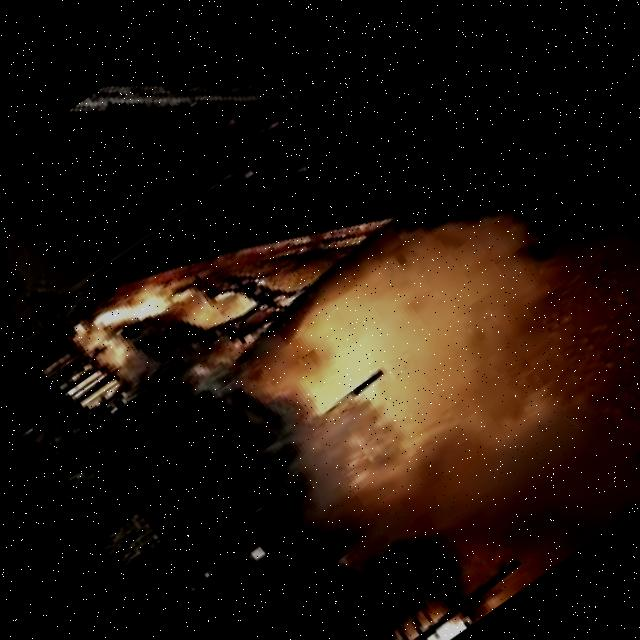Fire: (78, 252, 190, 355)
Smoke: (209, 145, 640, 640)
